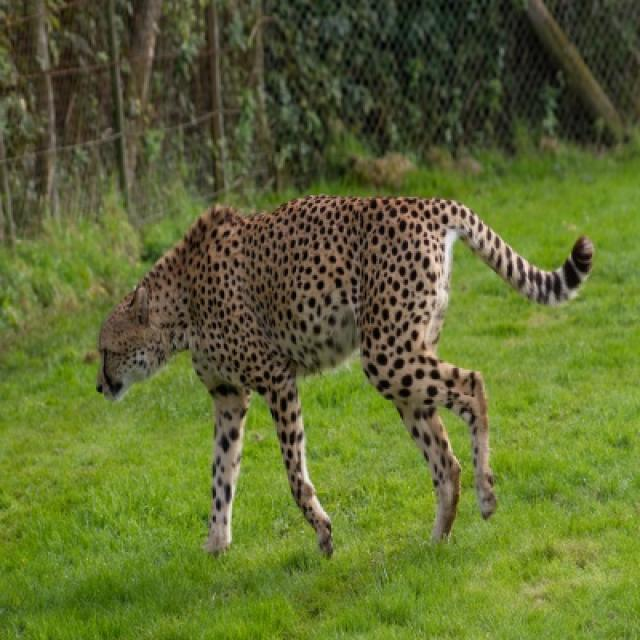Cheetah: (96, 197, 597, 558)
